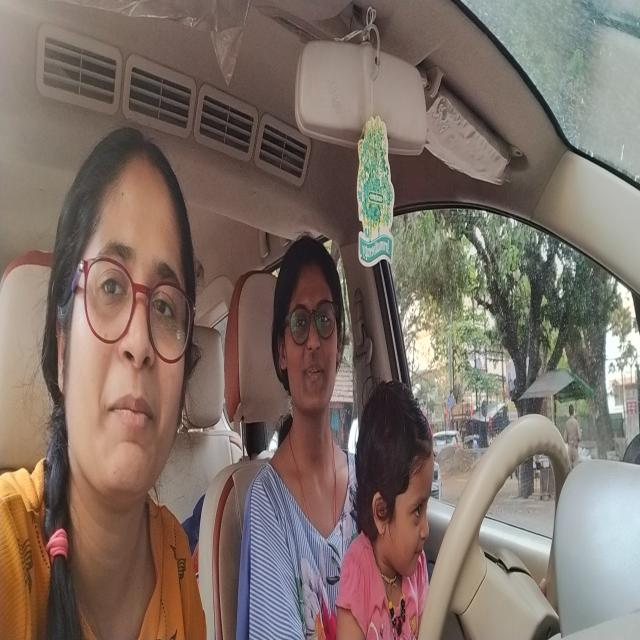child: (354, 373, 438, 584)
person: (41, 122, 204, 515), (270, 230, 350, 428)
